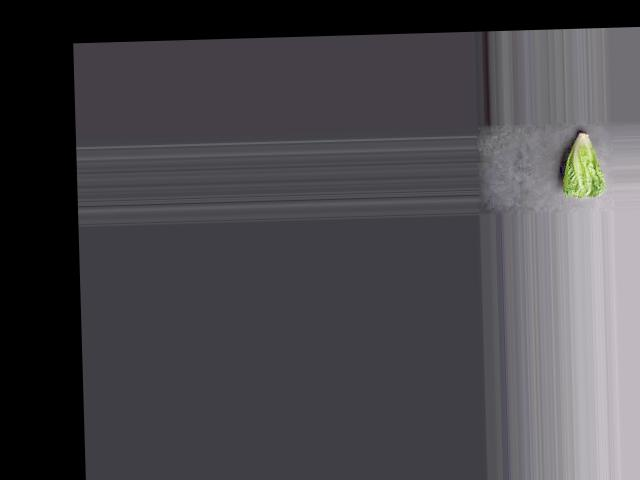lettuce: (559, 127, 607, 198)
